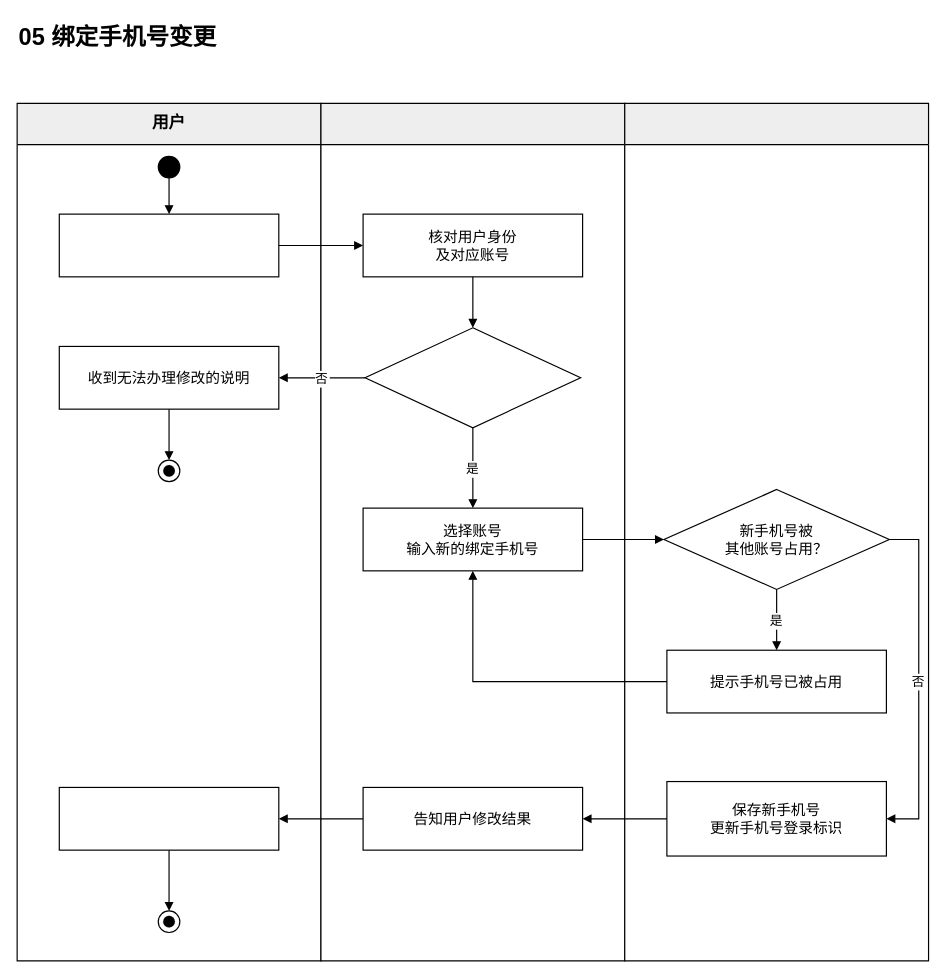
Image size: 947x978. Some labels were removed from this diagram. Each missing label, with the box of its shape:
收到修改成功结果: (58, 786, 279, 850)
管理员: (320, 102, 625, 961)
系统: (624, 102, 929, 961)
联系管理员 申请修改绑定手机号: (58, 213, 279, 277)
身份核对通过？: (364, 327, 581, 428)
